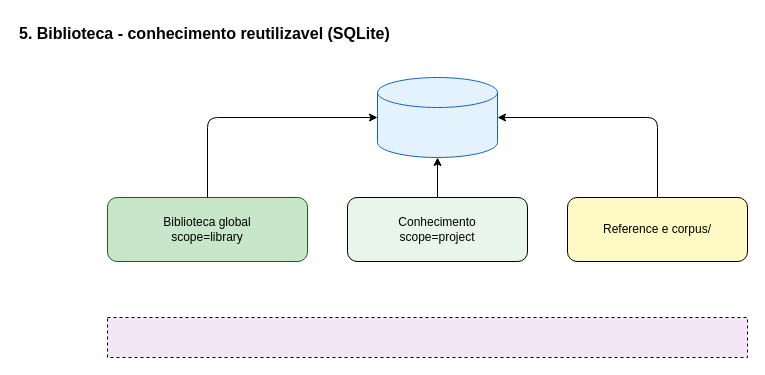
Some shapes in this 765 by 375 pixel diagram are drawn without their labels. Here are the shapes that lost their labels. From the top down, the centre of each, then its label:
the point at 437,117: Base de dados get.db
the point at 427,337: Import consolidado pode promover factos a biblioteca (ADR-012)
